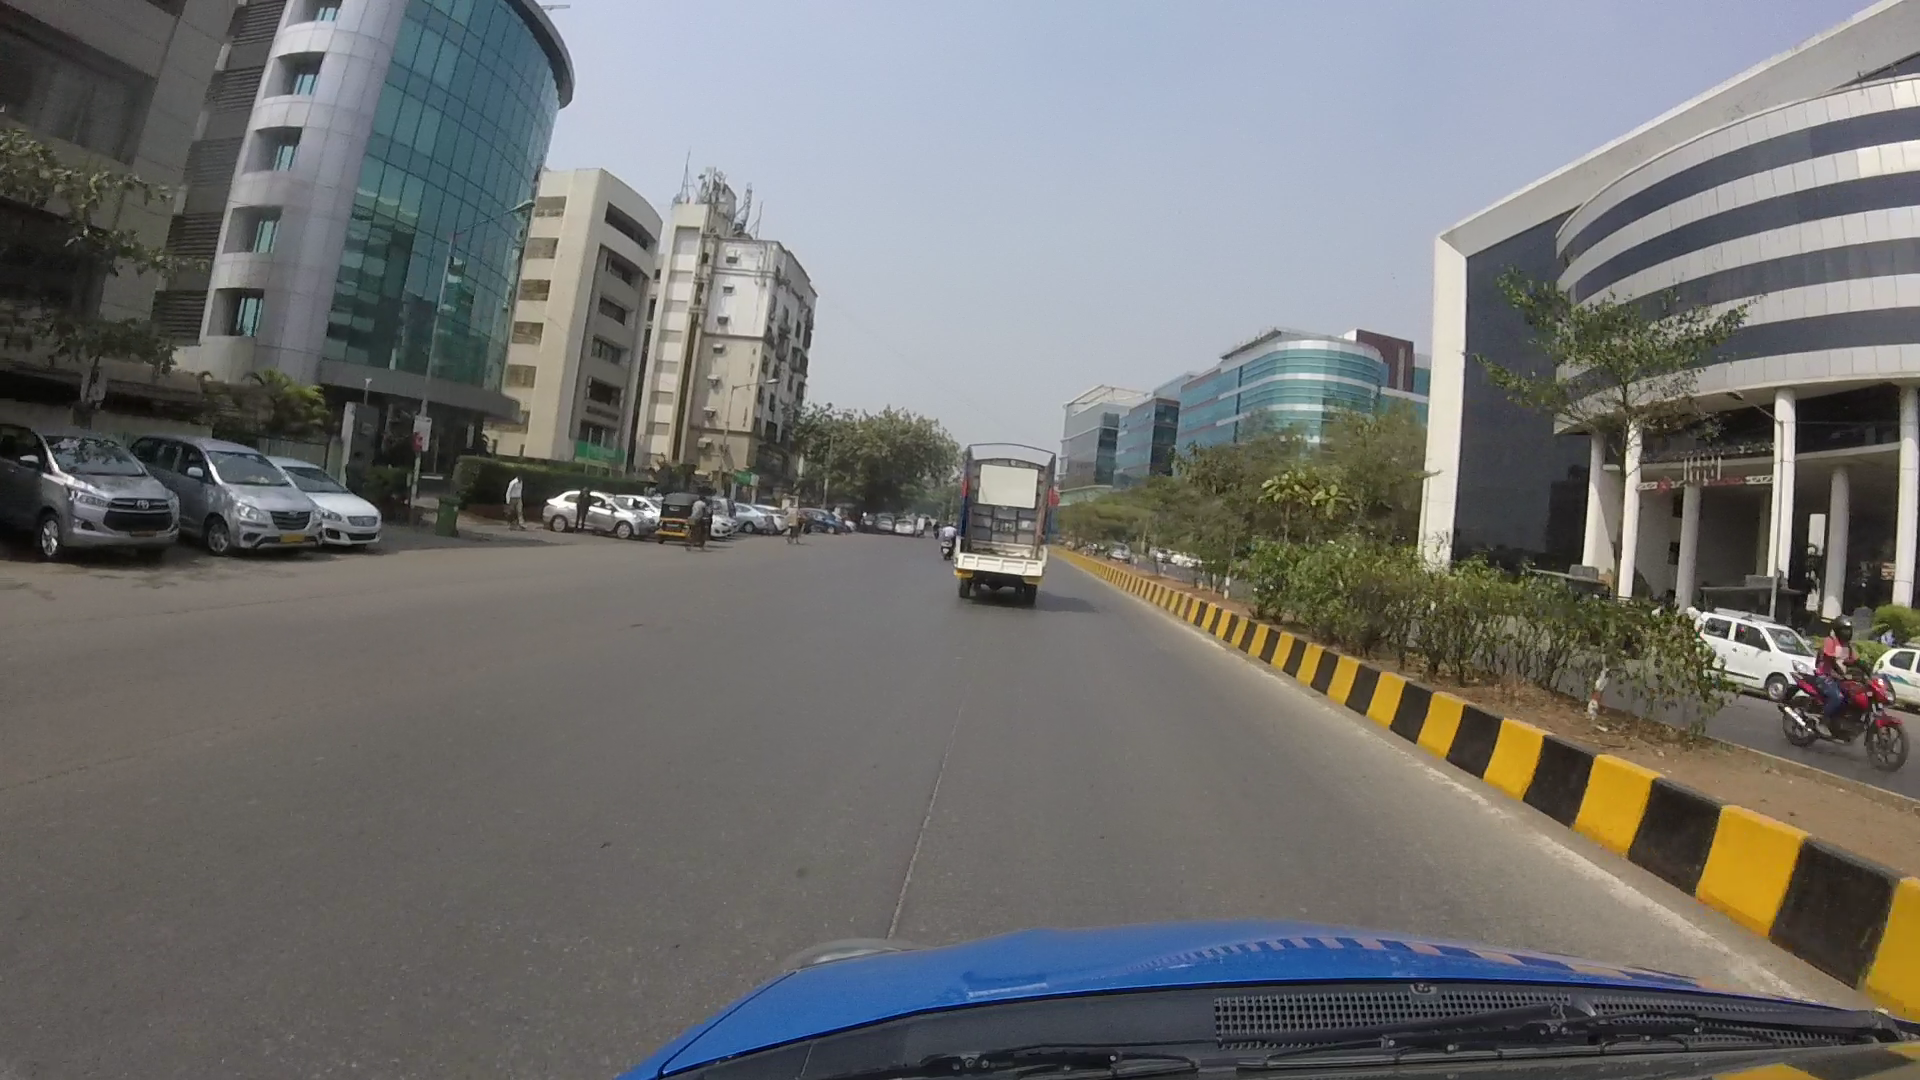bike/scooter: (1768, 622, 1913, 769)
car: (16, 422, 178, 566), (1665, 607, 1825, 702), (175, 444, 305, 545), (276, 469, 378, 549)
truck: (963, 444, 1065, 597)
